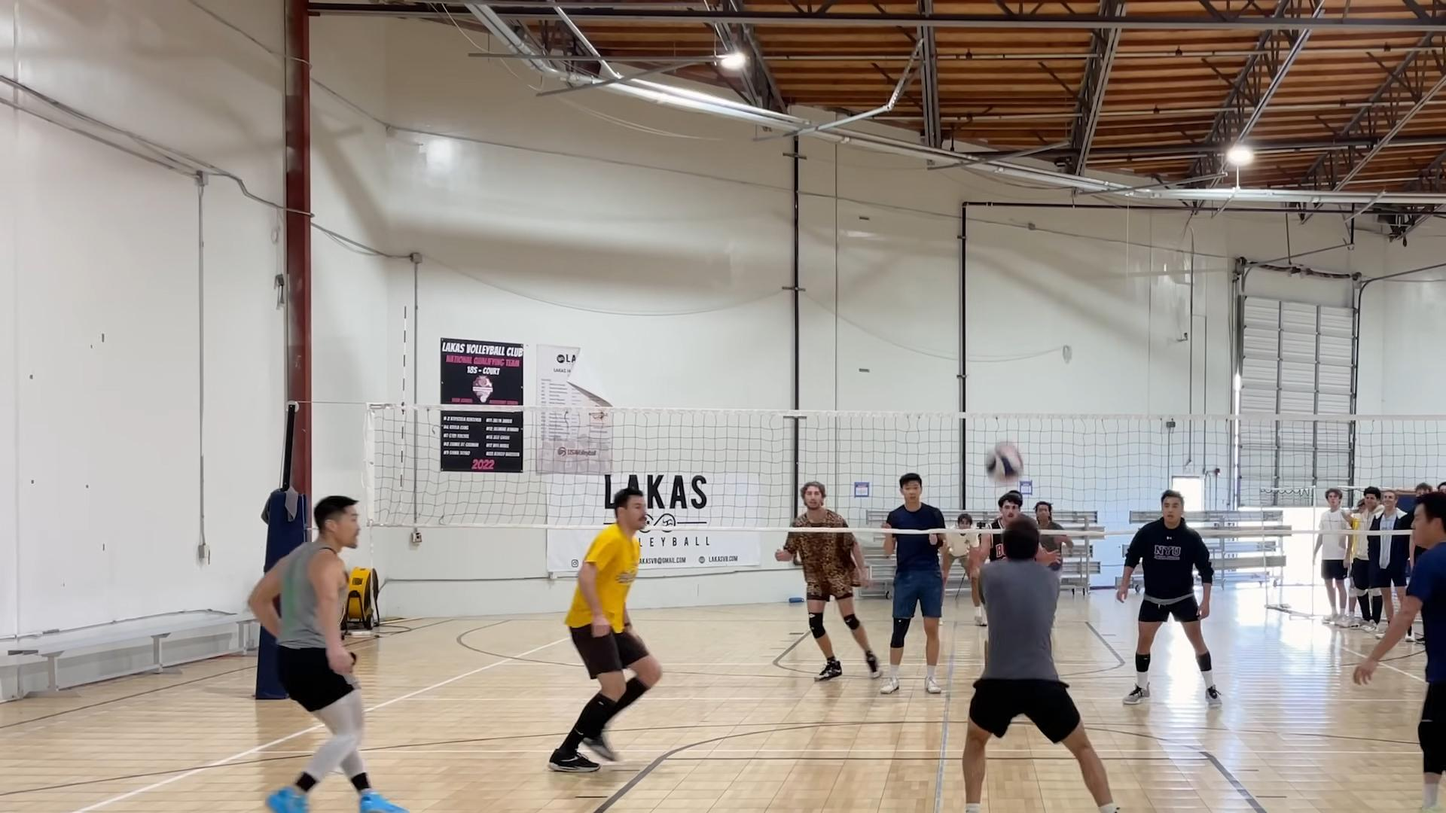ricezione: (962, 514, 1118, 813)
